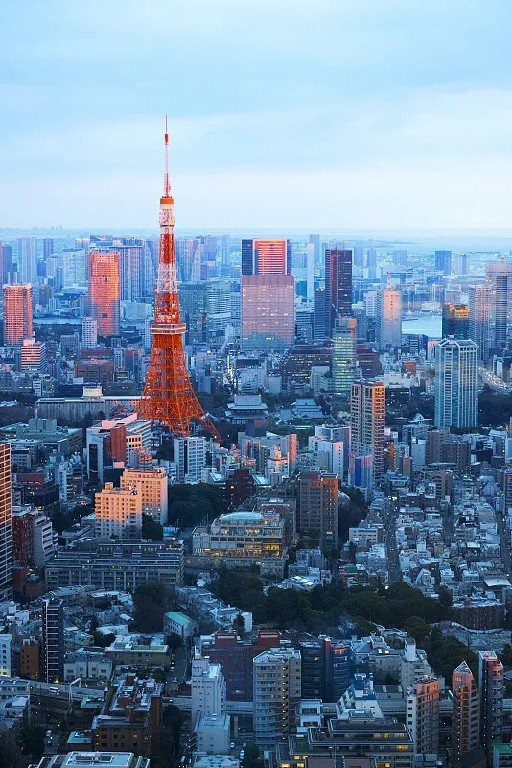Tokyo: (134, 111, 223, 440)
